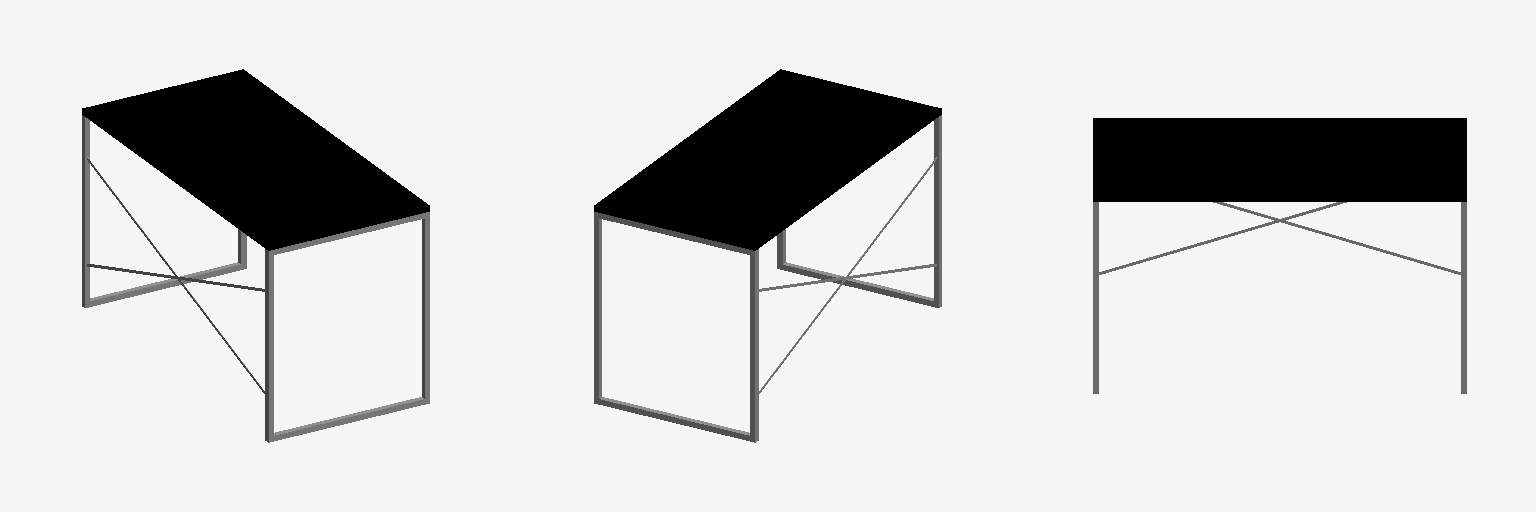
File: desk.obj
3 views of the same model, side by side, from view 1: azimuth 30°, elevation 25°; view 2: azimuth 150°, elevation 25°; view 3: azimuth 270°, elevation 25° (orthographic).
Parts seen in each view (by area): view 1: 立方体.001, 立方体, 平面, 平面.001; view 2: 立方体.001, 立方体, 平面.001, 平面; view 3: 立方体.001, 立方体, 平面.001, 平面.
Part boxes in pixels (x1,y1,x2,y2): 立方体.001: (82,69,429,250); 立方体: (82,115,429,442); 平面: (87,157,264,393); 平面.001: (87,264,264,291); 立方体.001: (594,69,941,250); 立方体: (594,115,941,442); 平面.001: (759,157,936,393); 平面: (759,264,936,291); 立方体.001: (1093,118,1466,201); 立方体: (1093,202,1466,393); 平面.001: (1213,202,1460,274); 平面: (1099,202,1346,274).
Bounding box in the file's own units: 0.6 × 0.7 × 1.2.